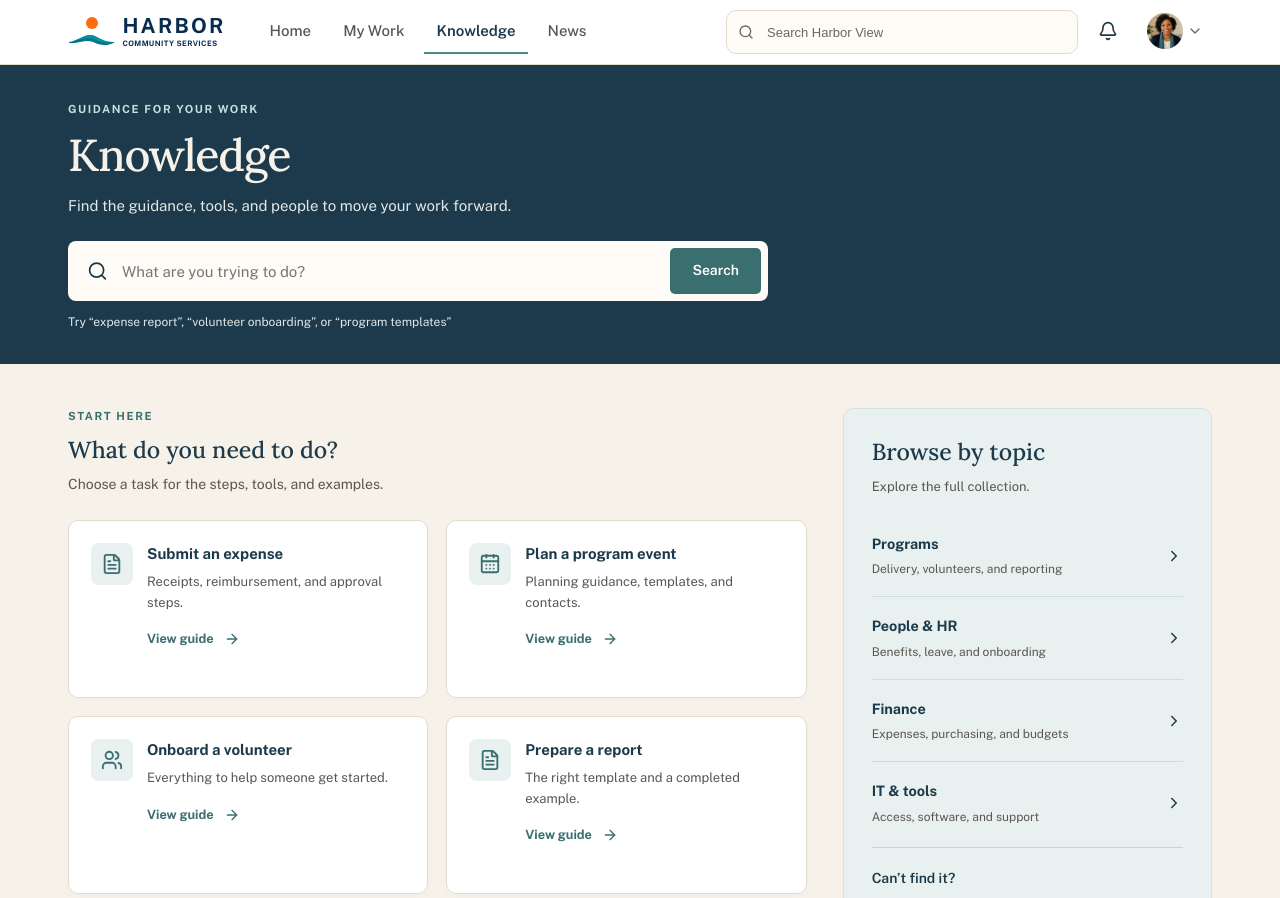
Knowledge journeys › searches, focuses the results heading, and opens the guide
This screenshot has width=1280, height=898.
Type "expense report" into the search field named "Search knowledge" at (389, 271), box [120, 249, 658, 293]
Then press Enter
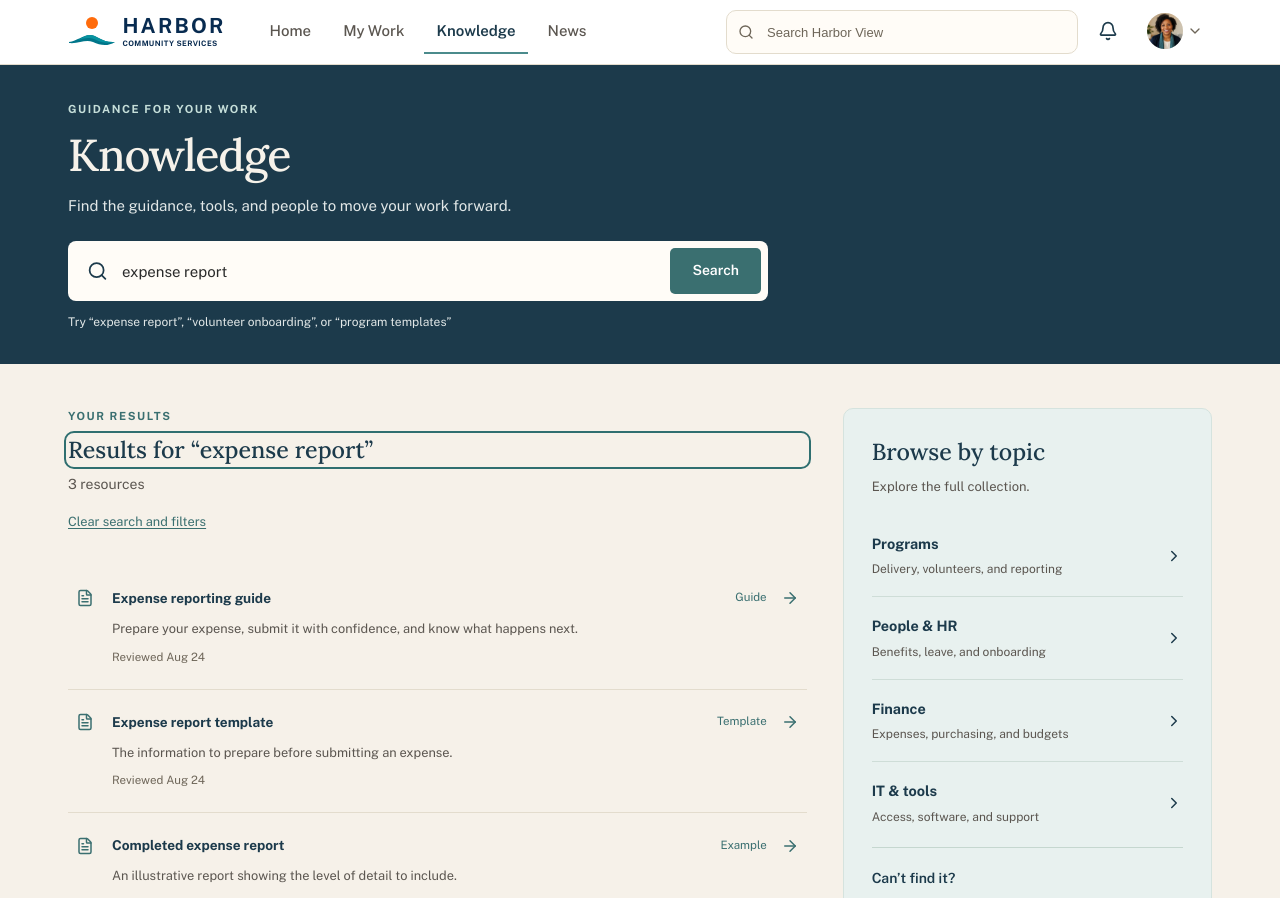
Click the link "Expense reporting guide" at (437, 627), box [68, 566, 807, 688]
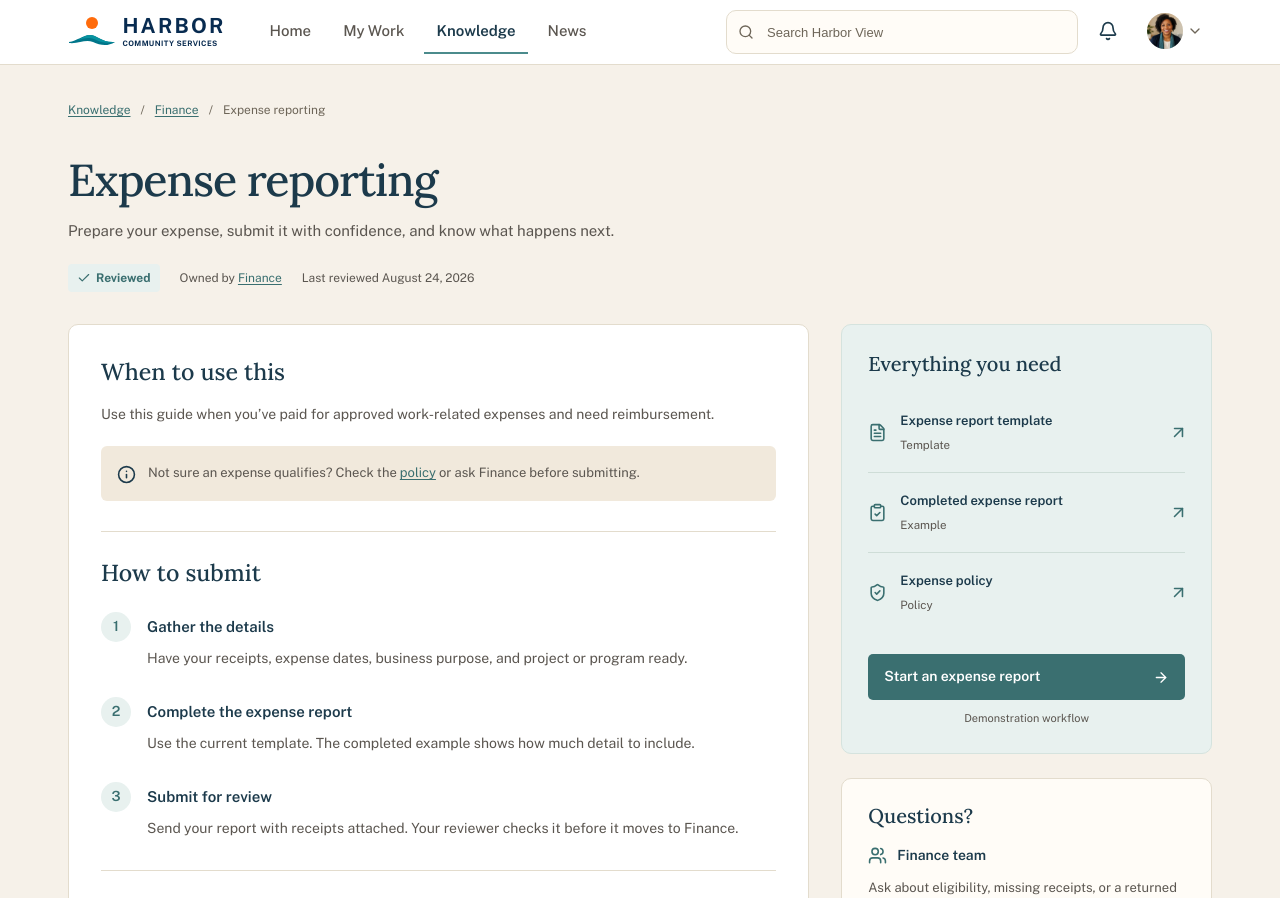
Check: the heading "Expense reporting" is shown, box [68, 151, 437, 208]
